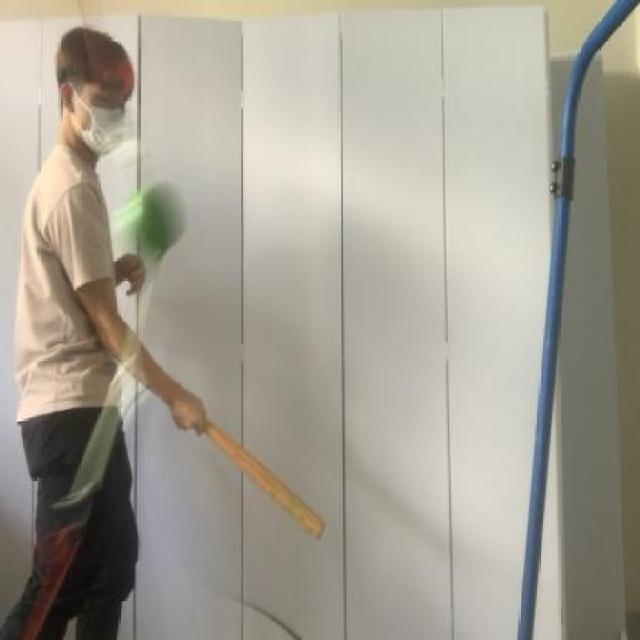baseball: (113, 170, 195, 290)
